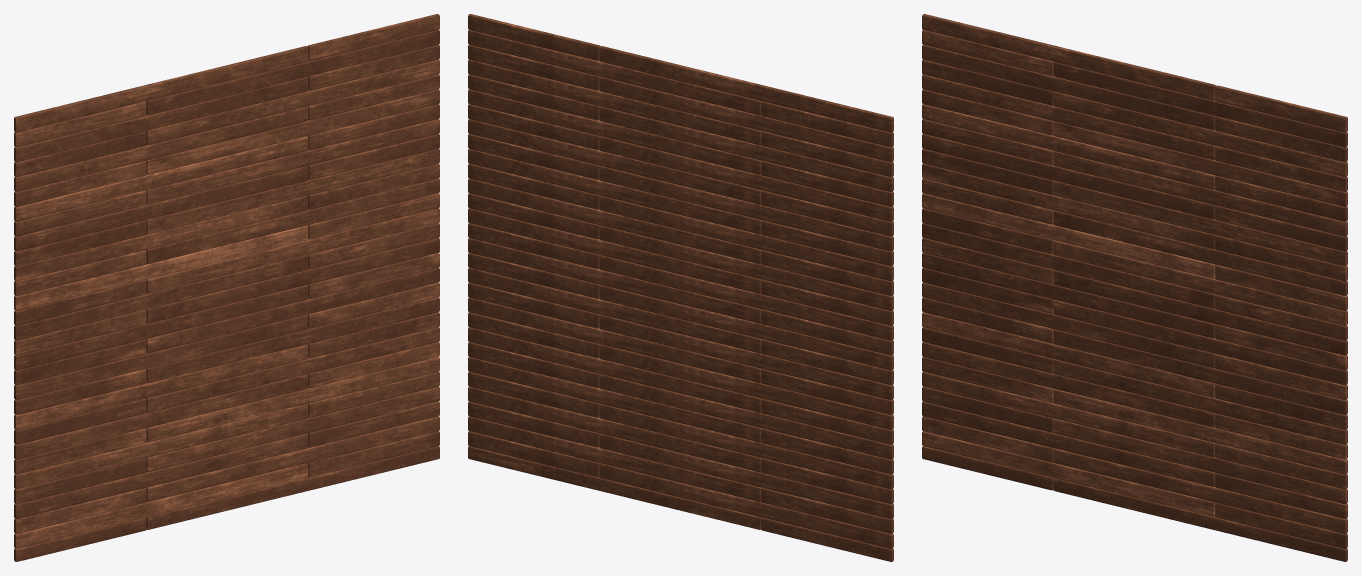
Rendered from wooden_floor_optimized.glb.
The picture shows the model from 3 angles, left to right: view 1: azimuth 30°, elevation 25°; view 2: azimuth 150°, elevation 25°; view 3: azimuth 330°, elevation 25°; orthographic projection.
Parts seen in each view (by area): view 1: SM_Floor_01; view 2: SM_Floor_01; view 3: SM_Floor_01.
Boxes of the visible parts, bbox=[...] form: SM_Floor_01: bbox=[14, 14, 439, 561]; SM_Floor_01: bbox=[468, 14, 893, 561]; SM_Floor_01: bbox=[922, 14, 1347, 561].
Size of the model in its own units: 6.01 by 6.01 by 0.0608.
1 material, 1 textured.
